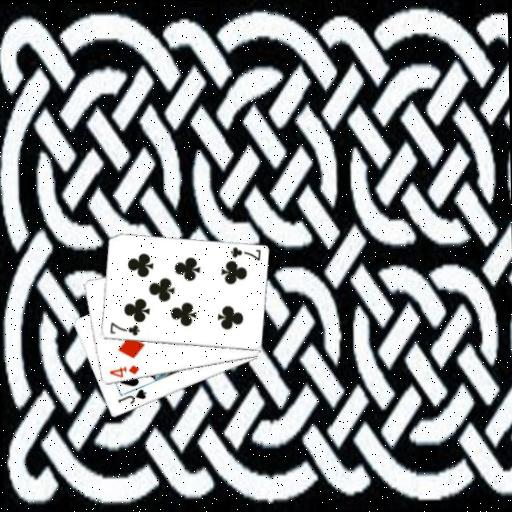4D: (106, 363, 141, 380)
7C: (228, 244, 263, 263), (107, 319, 141, 338)
JS: (115, 386, 149, 407)
